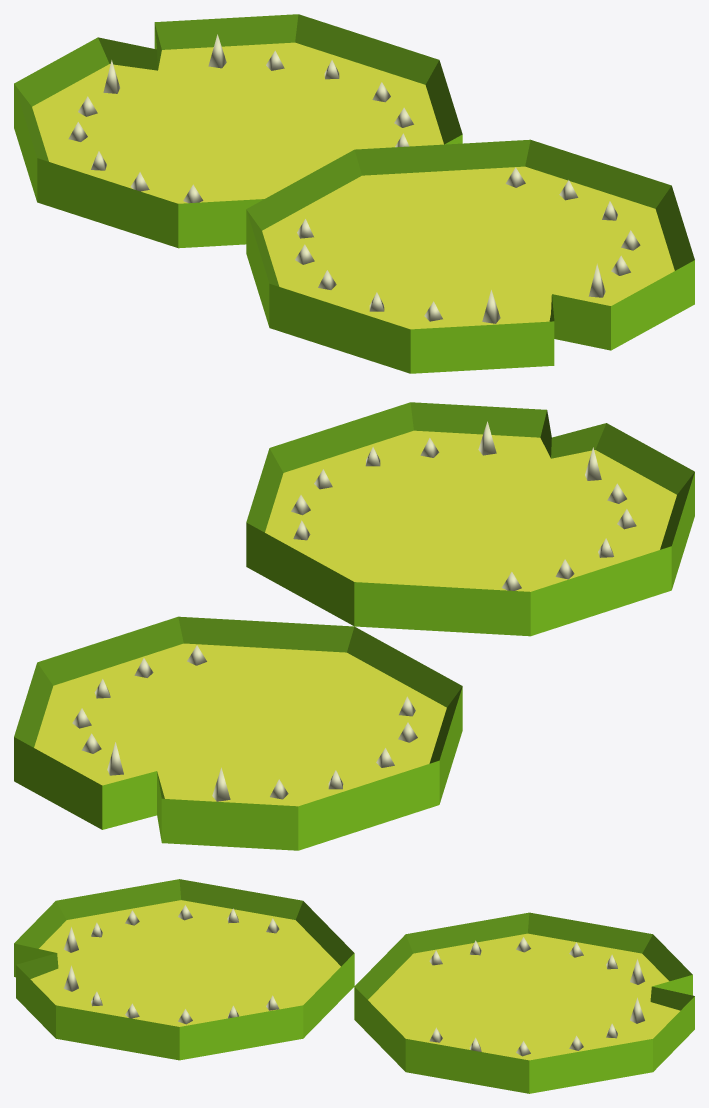
Rendered from EvilLily.fbx.
The picture shows the model from 3 angles, top to bottom: view 1: azimuth 30°, elevation 25°; view 2: azimuth 150°, elevation 25°; view 3: azimuth 270°, elevation 25°; orthographic projection. The views are drawn at different scales.
Parts seen in each view (by area): view 1: LilyMonsterBottom, LilyMonsterTop; view 2: LilyMonsterBottom, LilyMonsterTop; view 3: LilyMonsterBottom, LilyMonsterTop.
Part boxes in pixels (x1=…): LilyMonsterBottom: x1=246, y1=139, x2=694, y2=373; LilyMonsterTop: x1=14, y1=14, x2=462, y2=248; LilyMonsterBottom: x1=246, y1=402, x2=694, y2=636; LilyMonsterTop: x1=14, y1=616, x2=462, y2=850; LilyMonsterBottom: x1=14, y1=879, x2=354, y2=1060; LilyMonsterTop: x1=354, y1=912, x2=694, y2=1093.
Size of the model in its own units: 105 by 33.77 by 205.
